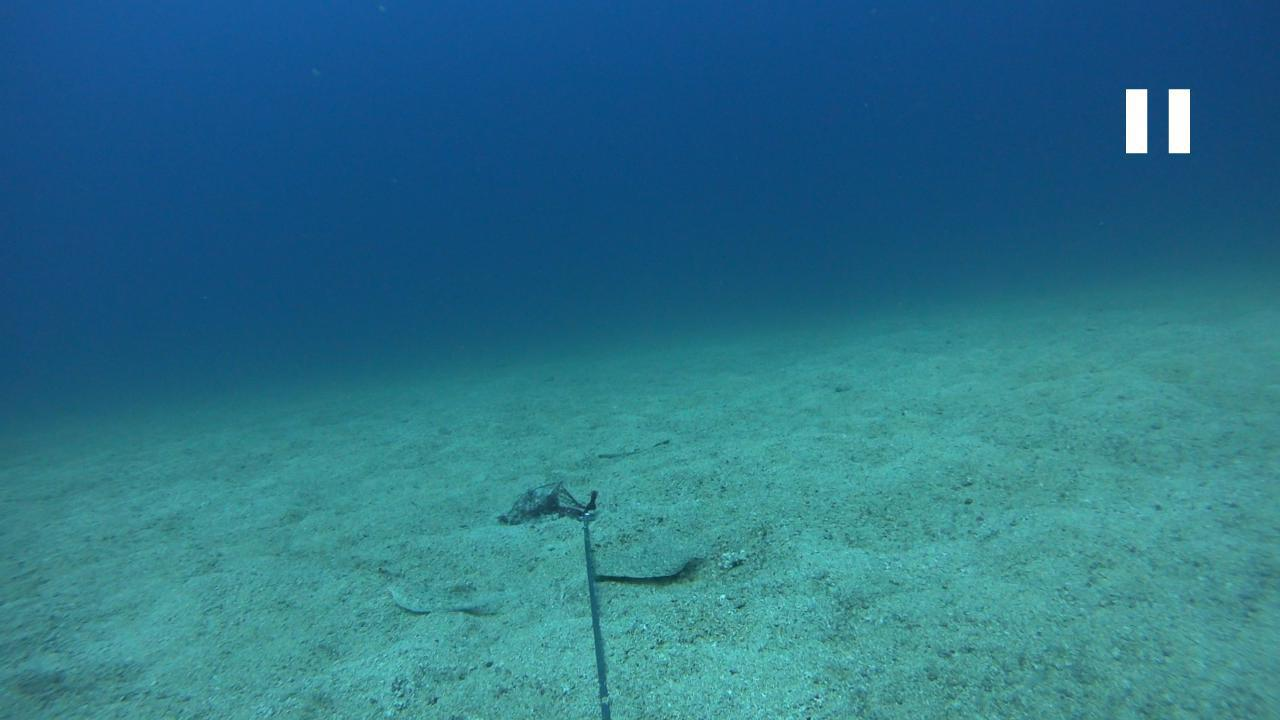bothus: (377, 565, 508, 618), (589, 524, 717, 577)
